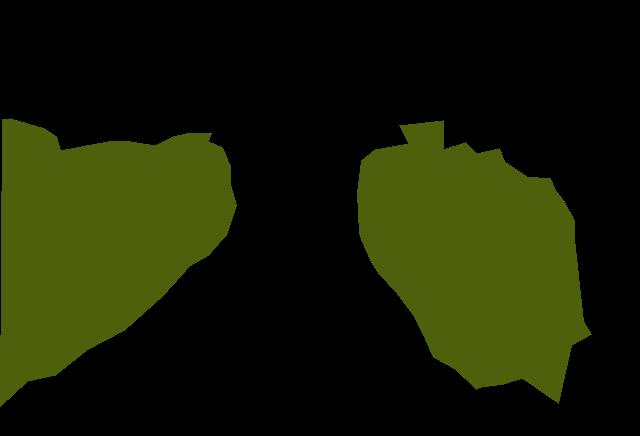Train: (0, 118, 236, 407), (357, 120, 591, 403)
